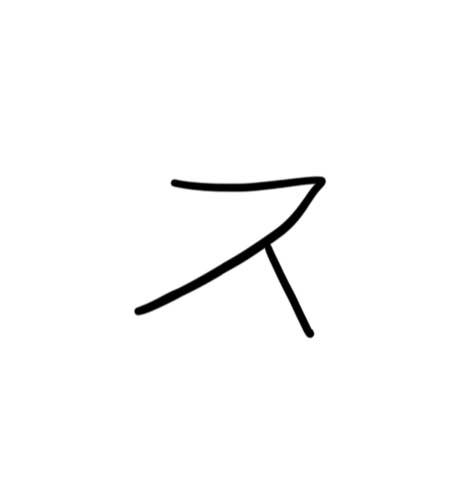su: (131, 165, 341, 345)
